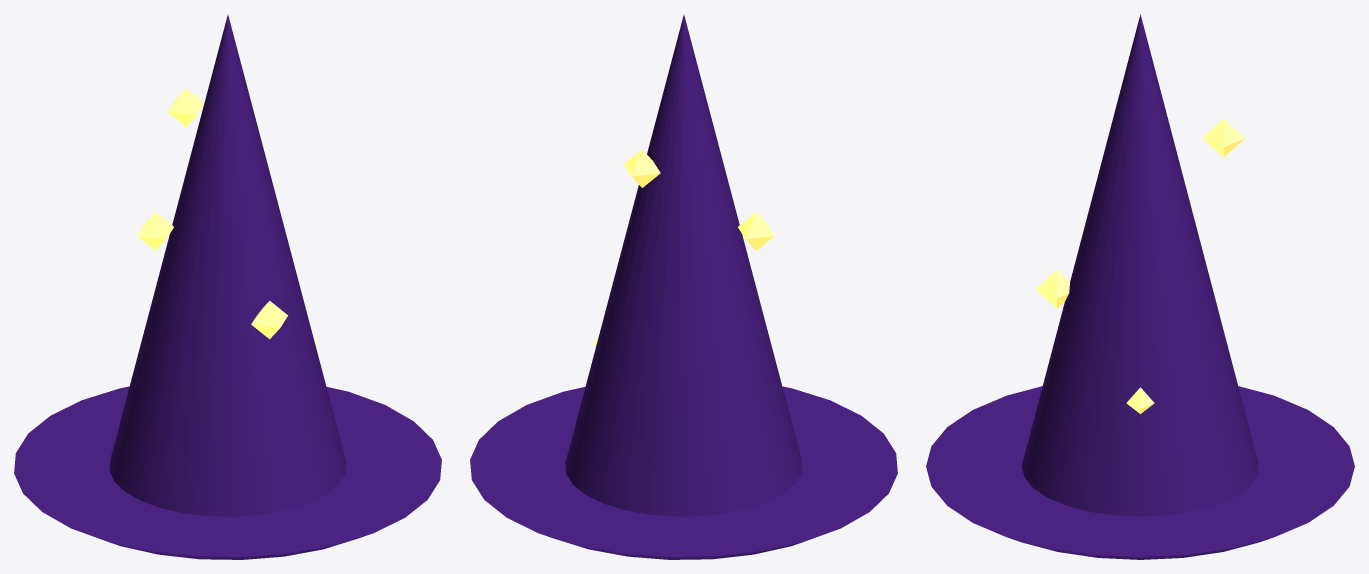
Rendered from wizard.glb.
3 views of the same model, side by side, from view 1: azimuth 30°, elevation 25°; view 2: azimuth 150°, elevation 25°; view 3: azimuth 270°, elevation 25° (orthographic).
Visible parts, largest first — view 1: wizard; view 2: wizard; view 3: wizard.
Boxes of the visible parts, x1,y1,x2,y2 form: wizard: (14, 15, 441, 559); wizard: (470, 15, 897, 559); wizard: (926, 14, 1354, 559).
Size of the model in its own units: 0.36 by 0.431 by 0.36.
